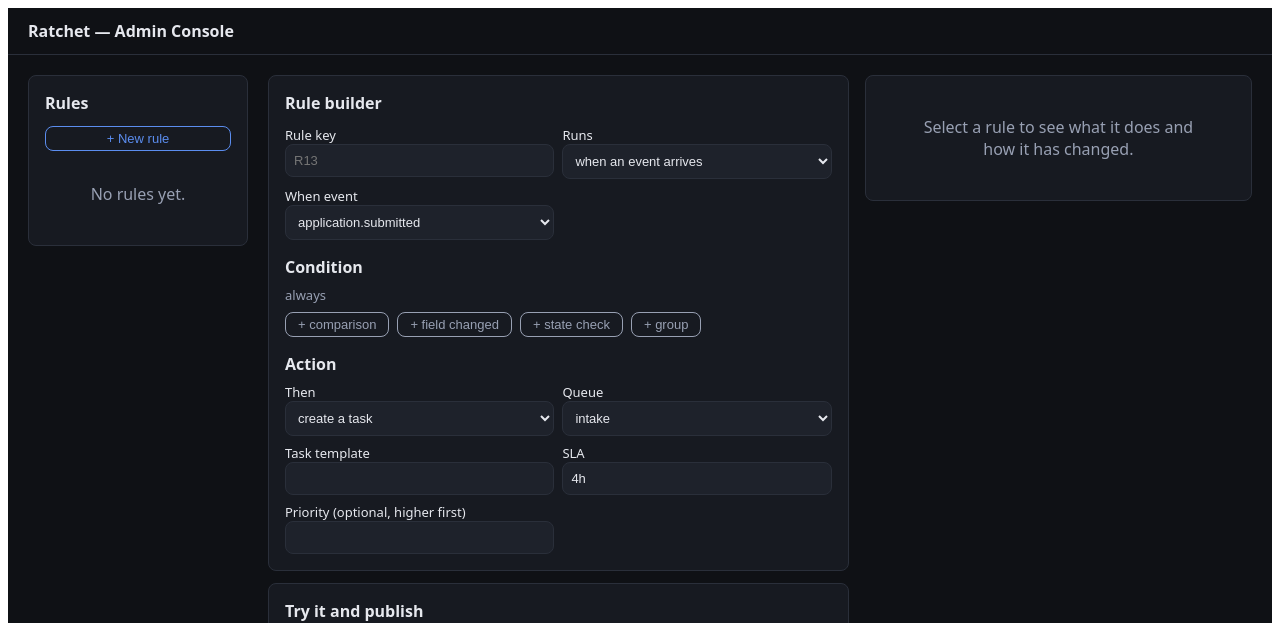
Test: adding a second condition groups them, and the group can be switched to ANY
expect the text "always" is shown: met, box [285,286,326,304]
Click the button "+ field changed" at [455, 324], box [397,312,512,337]
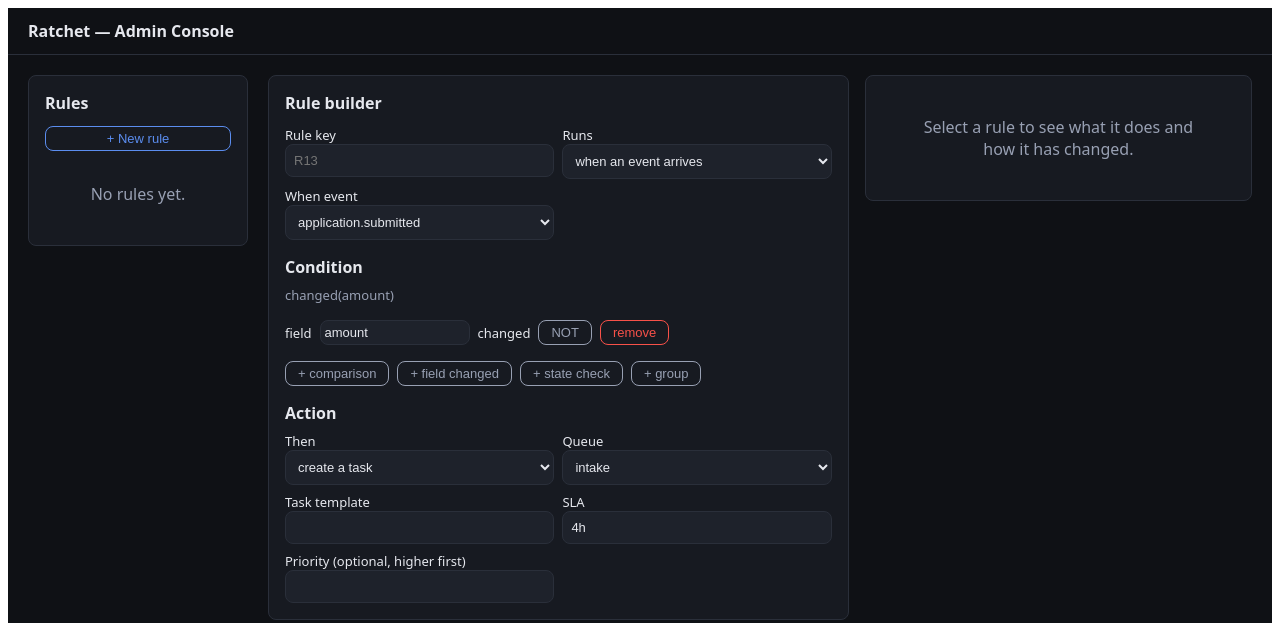
Click the button "+ state check" at [572, 374], box [520,361,623,386]
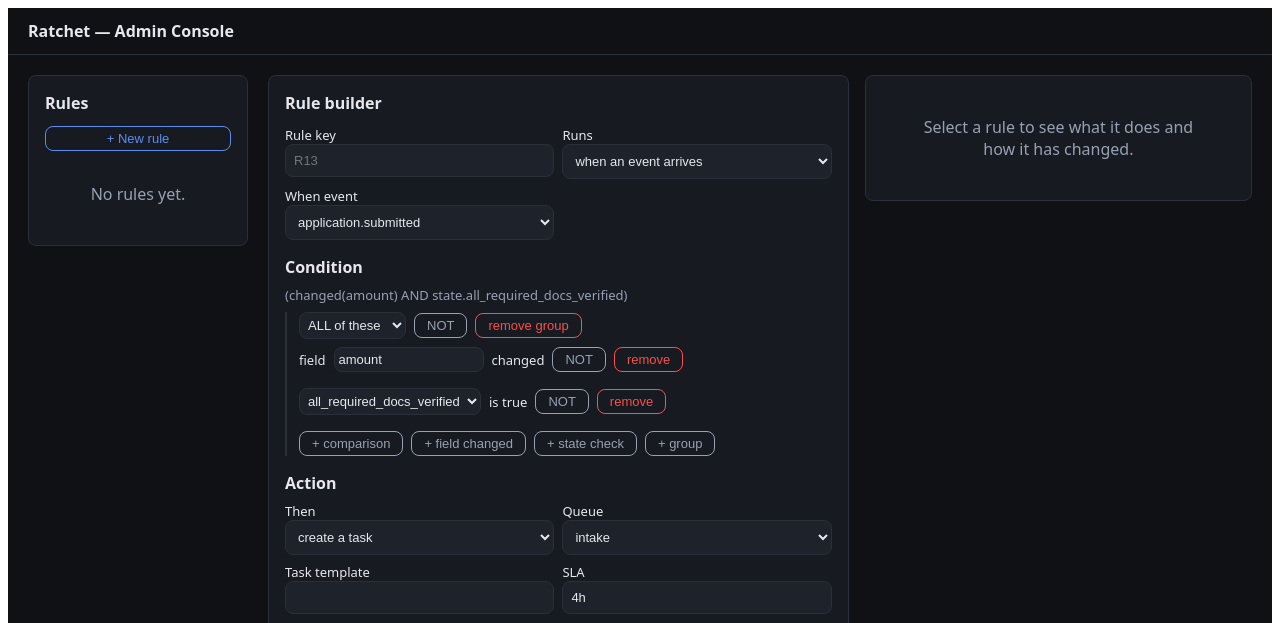
expect the text "(changed(amount) AND state.all_required_docs_verified)" is shown: met, box [285,286,628,304]
Select "ANY of these" in the dropdown named "Group type" at [352, 326], box [299,312,406,339]
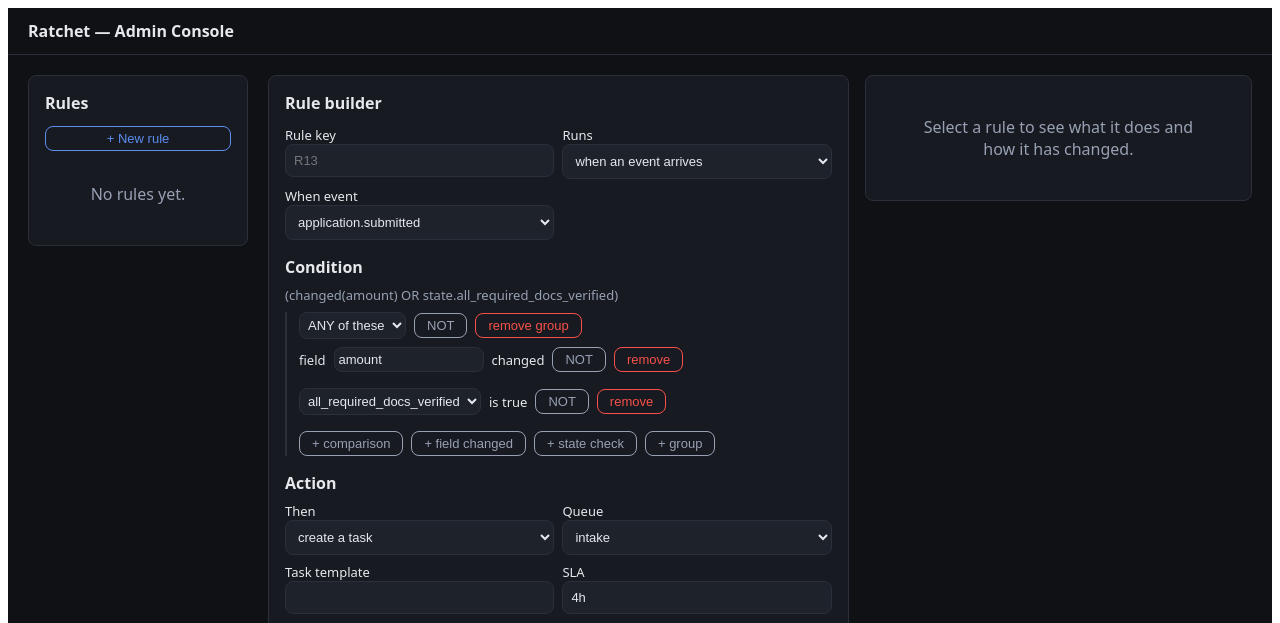
expect the text "(changed(amount) OR state.all_required_docs_verified)" is shown: met, box [285,286,618,304]
